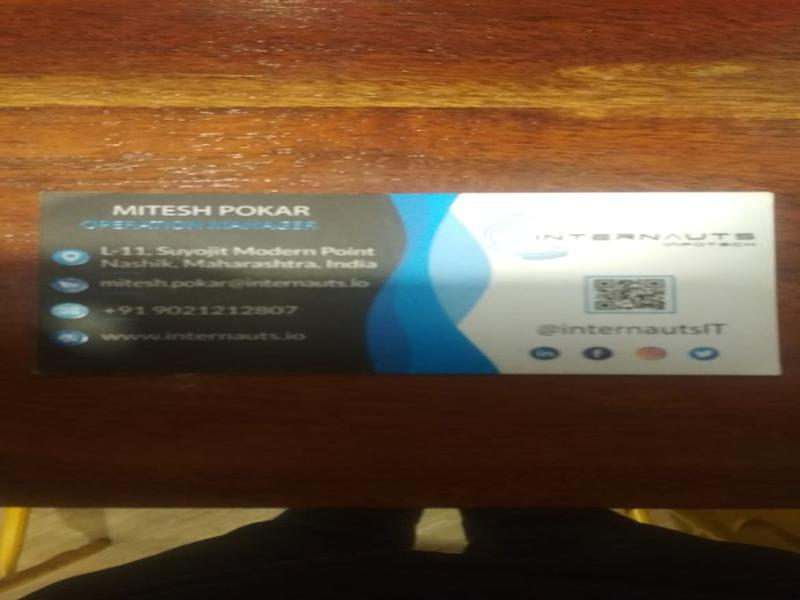card: (35, 185, 783, 378)
